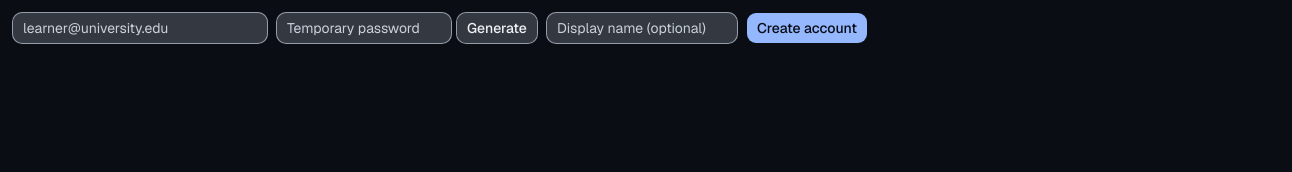
Test: CreateAccountForm › dismisses the shown-once panel when Dismiss is clicked
Type "learner@uni.edu.qa" into the field named "Account email" at (140, 28), box x1=12 y1=12 x2=268 y2=44
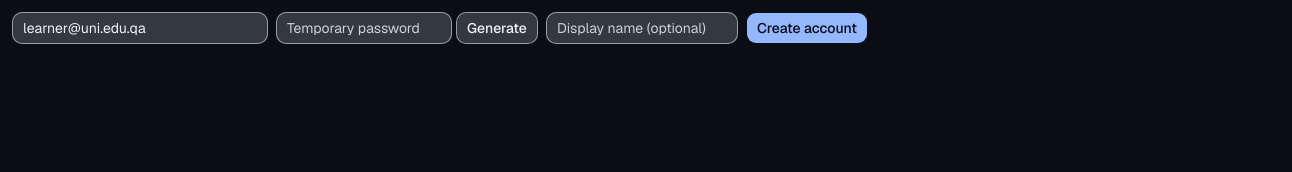
Type "longenough1" into the field labelled "Temporary password" at (364, 28), box x1=276 y1=12 x2=452 y2=44
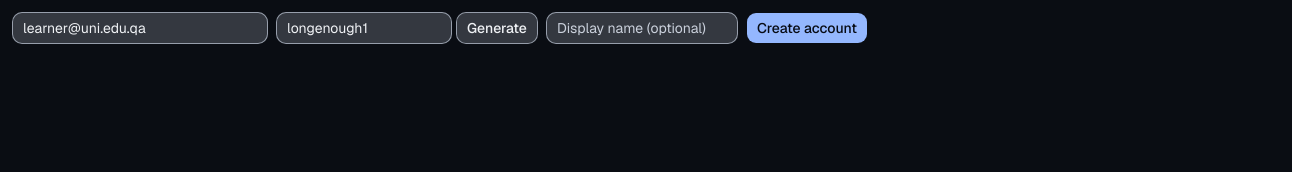
Click the button "Create account" at (807, 28), box x1=746 y1=12 x2=868 y2=44
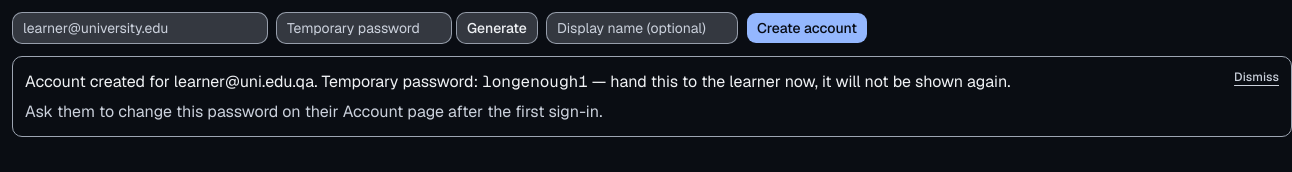
Now the message is shown, box x1=12 y1=56 x2=1291 y2=137
Click the button "Dismiss" at (1257, 77), box x1=1234 y1=69 x2=1279 y2=85
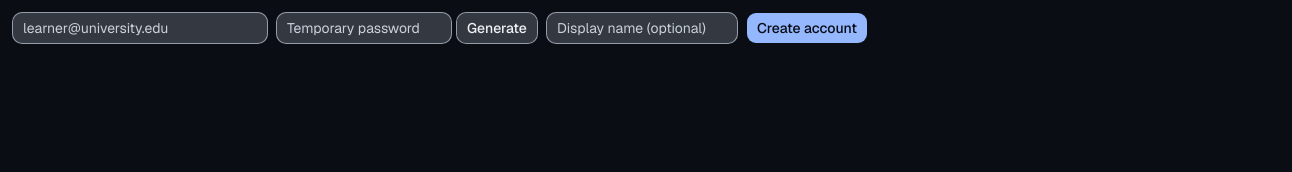
Now the message is gone
